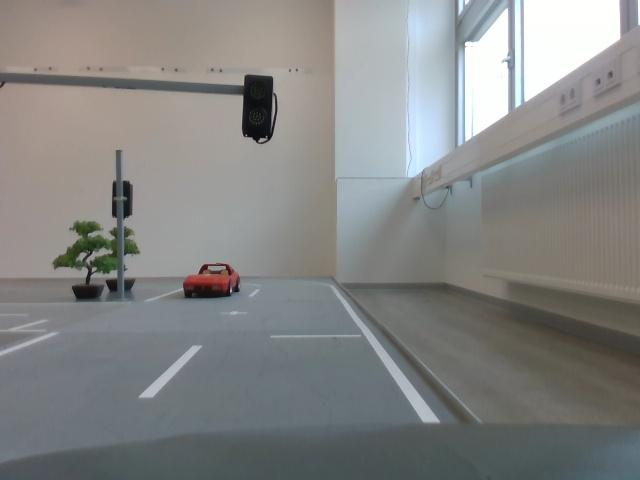car: (183, 258, 243, 301)
potted plant: (59, 217, 119, 301), (106, 226, 139, 295)
traffic light: (241, 72, 278, 149), (112, 177, 137, 222)
